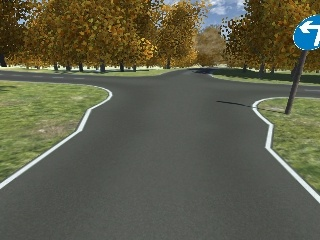TLeft: (292, 13, 320, 53)
